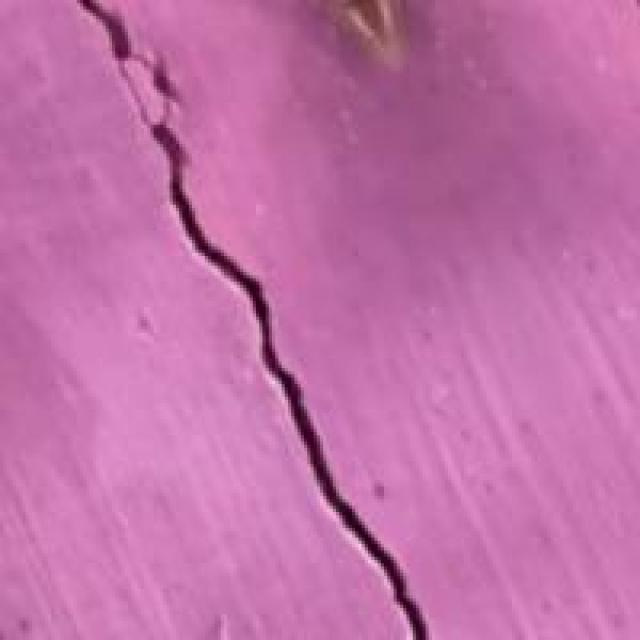crack: (70, 0, 448, 637)
